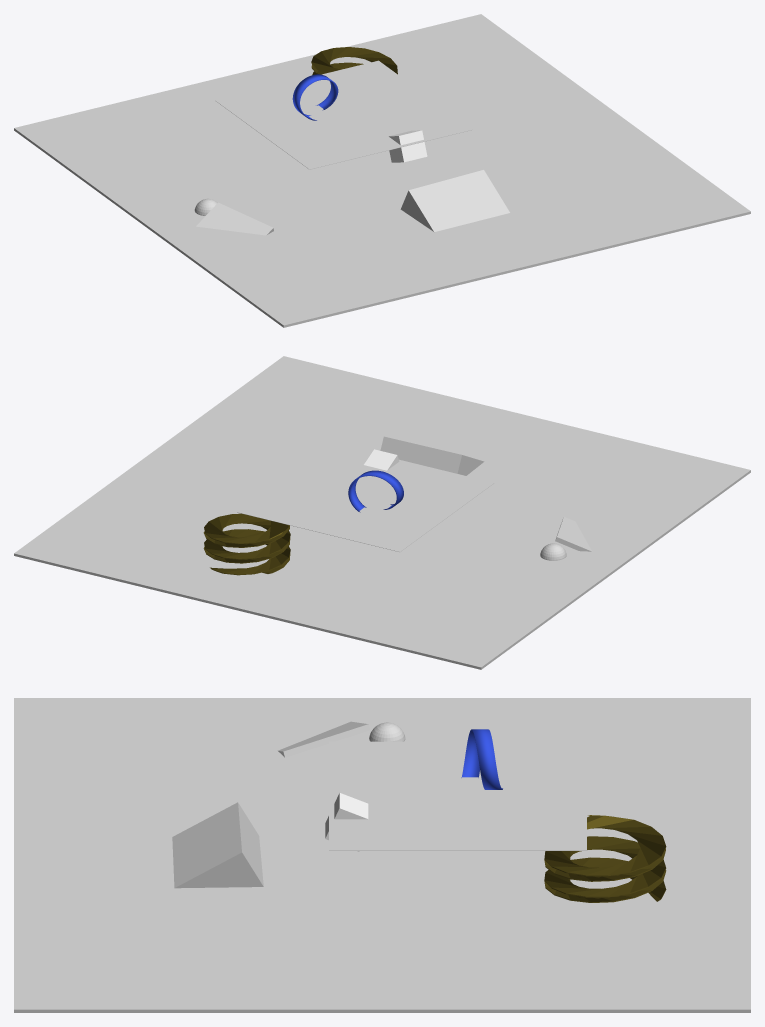
Rendered from newmap.glb.
The picture shows the model from 3 angles, top to bottom: view 1: azimuth 30°, elevation 25°; view 2: azimuth 150°, elevation 25°; view 3: azimuth 270°, elevation 25°; orthographic projection. The views are drawn at different scales.
Parts seen in each view (by area): view 1: Floor, Cube, Cube.003, Cube.002, Cube.004, Cube.001, Plane; view 2: Floor, Cube, Cube.002, Cube.003, Plane, Cube.004; view 3: Floor, Cube, Cube.002, Cube.003, Plane, Cube.004, Cube.001, Sphere.
Part boxes in pixels (x1,y1,x2,y2): Floor: (14, 14, 750, 327); Cube: (215, 60, 472, 169); Cube.003: (400, 170, 509, 232); Cube.002: (311, 47, 397, 74); Cube.004: (196, 202, 273, 235); Cube.001: (389, 130, 427, 162); Plane: (292, 74, 338, 120); Floor: (14, 356, 750, 669); Cube: (237, 443, 494, 551); Cube.002: (203, 513, 290, 575); Cube.003: (380, 436, 484, 475); Plane: (348, 470, 403, 512); Cube.004: (555, 517, 591, 551); Floor: (14, 698, 750, 1012); Cube: (329, 741, 586, 850); Cube.002: (544, 815, 666, 902); Cube.003: (172, 802, 263, 888); Plane: (461, 729, 502, 789); Cube.004: (278, 721, 369, 757); Cube.001: (325, 792, 368, 851); Sphere: (369, 722, 405, 741).
Bounding box in the file's own units: 40 × 9.25 × 40.
